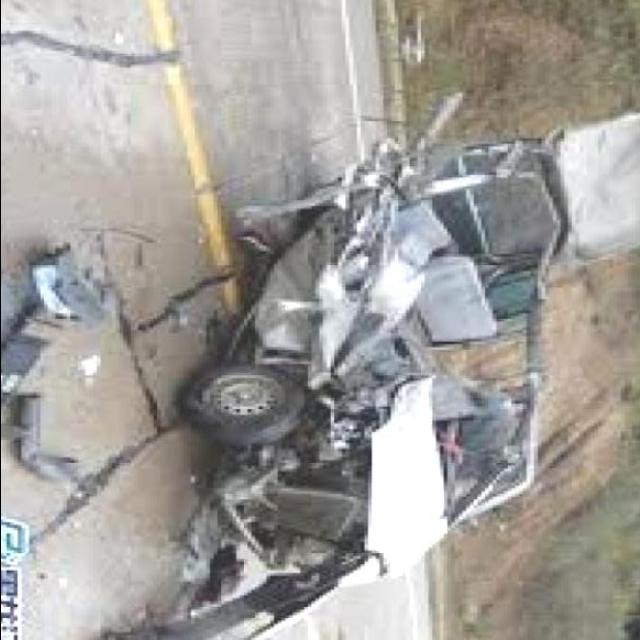accident: (164, 113, 605, 631)
